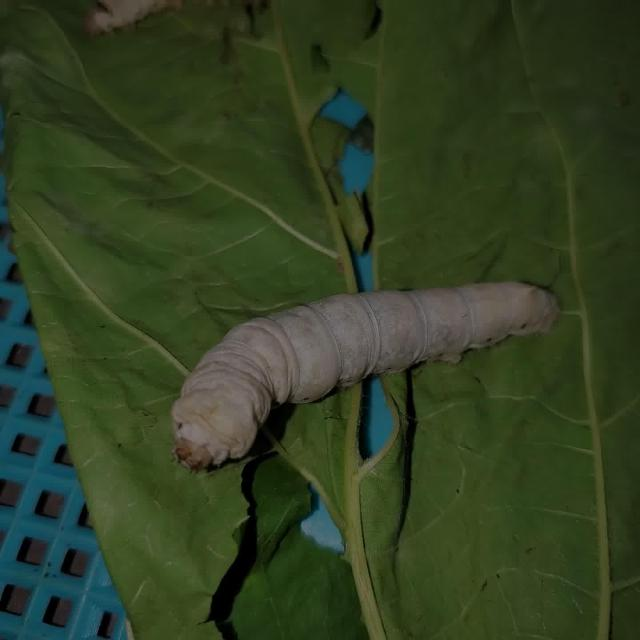Grasserie: (116, 226, 586, 492)
